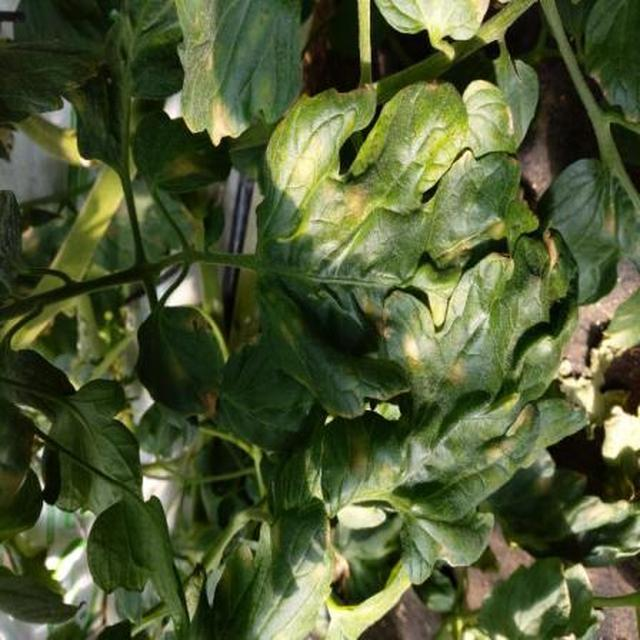Leaf Mold: (190, 107, 640, 640)
